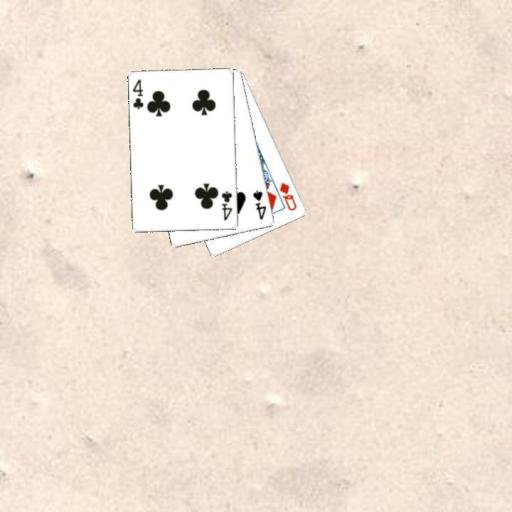4C: (129, 76, 145, 111), (218, 188, 234, 222)
4S: (250, 188, 268, 221)
QD: (277, 179, 299, 213)
